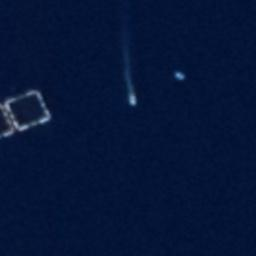square_solid: (2, 84, 51, 134)
